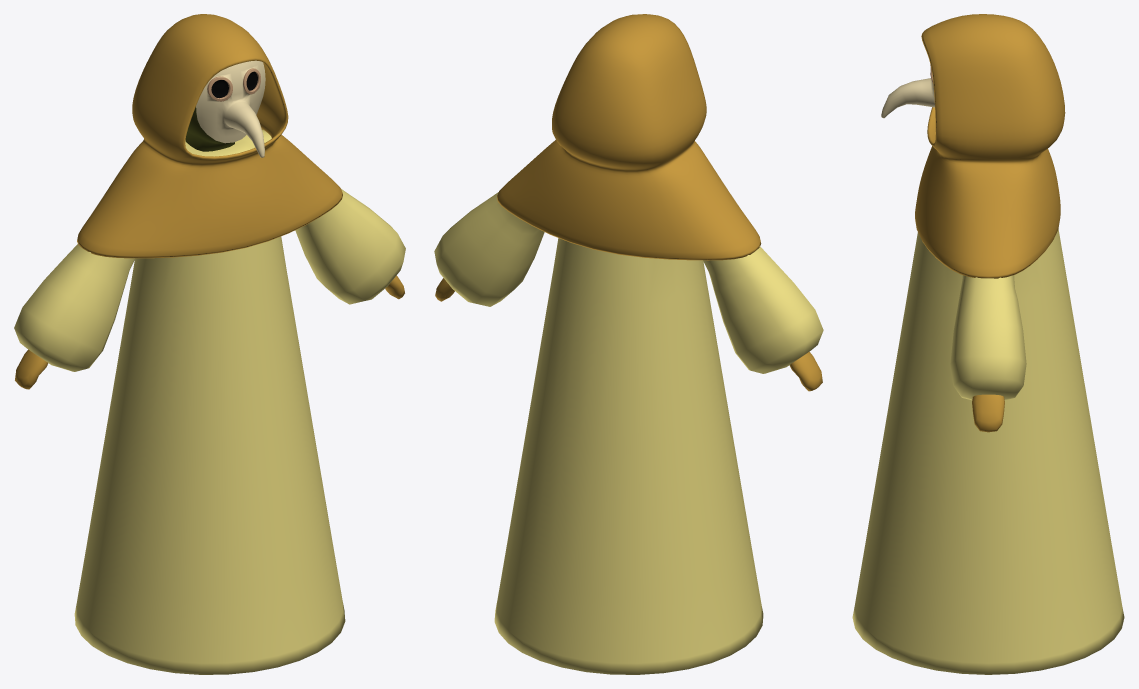
File: Scholar Model.fbx
The picture shows the model from 3 angles, left to right: view 1: azimuth 30°, elevation 25°; view 2: azimuth 150°, elevation 25°; view 3: azimuth 270°, elevation 25°; orthographic projection.
Parts seen in each view (by area): view 1: Cloak, Hood, Mask, Hands, Head; view 2: Cloak, Hood, Hands; view 3: Cloak, Hood, Mask, Hands.
Boxes of the visible parts, x1,y1,x2,y2 form: Cloak: (14, 129, 405, 674); Hood: (77, 14, 342, 258); Mask: (196, 60, 265, 157); Hands: (15, 275, 404, 389); Head: (185, 107, 234, 151); Cloak: (434, 192, 823, 674); Hood: (497, 14, 761, 260); Hands: (435, 278, 822, 391); Cloak: (852, 229, 1124, 674); Hood: (915, 14, 1065, 278); Mask: (881, 64, 934, 118); Hands: (972, 394, 1004, 432).
Bounding box in the file's own units: 64.42 × 95.83 × 39.46.
